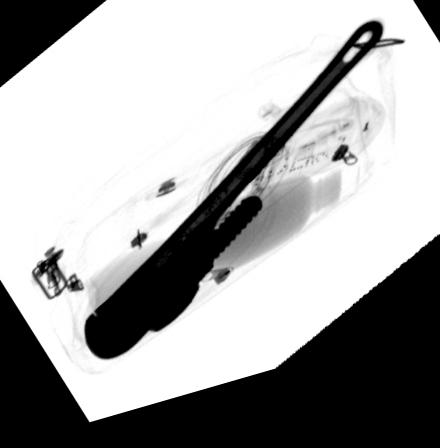Wrench: (83, 39, 385, 368)
